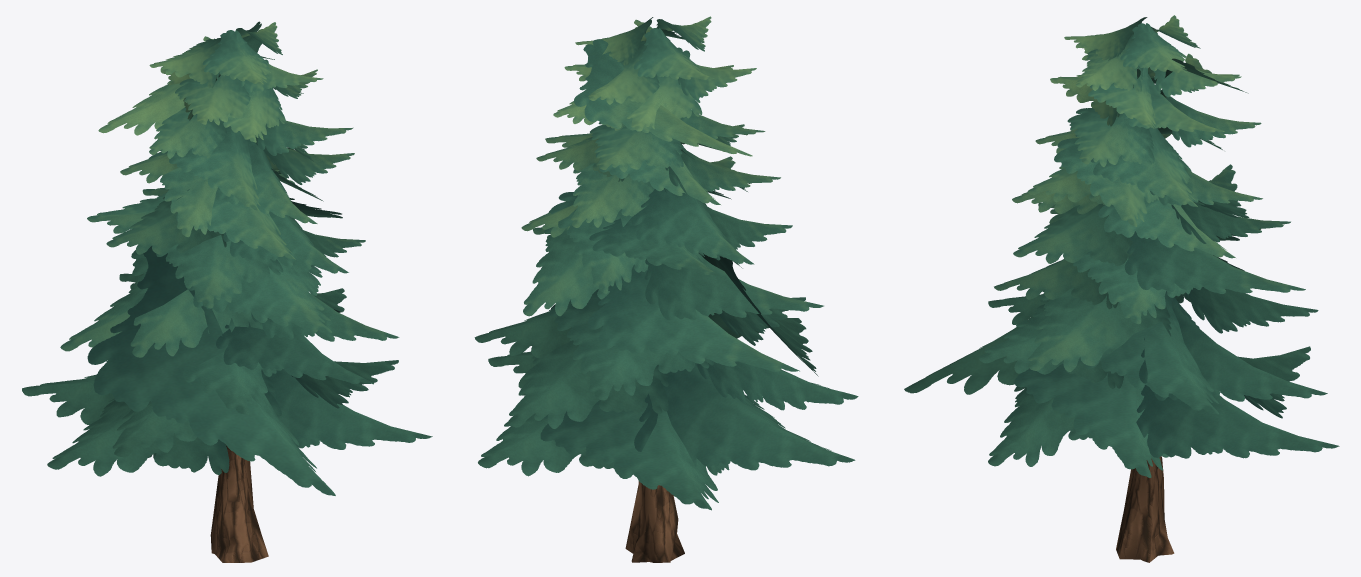
The model's file is tree_pine_a.glb.
3 renders of one model, left to right at view 1: azimuth 30°, elevation 25°; view 2: azimuth 150°, elevation 25°; view 3: azimuth 270°, elevation 25°, orthographic. The views are drawn at different scales.
Visible parts, largest first — view 1: Canopy, tree_pine_a; view 2: Canopy, tree_pine_a; view 3: Canopy, tree_pine_a.
Part boxes in pixels (x1,y1,x2,y2): Canopy: (22,21,432,495); tree_pine_a: (210,444,268,562); Canopy: (474,16,858,510); tree_pine_a: (625,481,684,562); Canopy: (904,15,1339,477); tree_pine_a: (1116,456,1174,562).
Size of the model in its own units: 1.86 by 2.55 by 1.96.
Materials: 2 (2 with a texture image).
